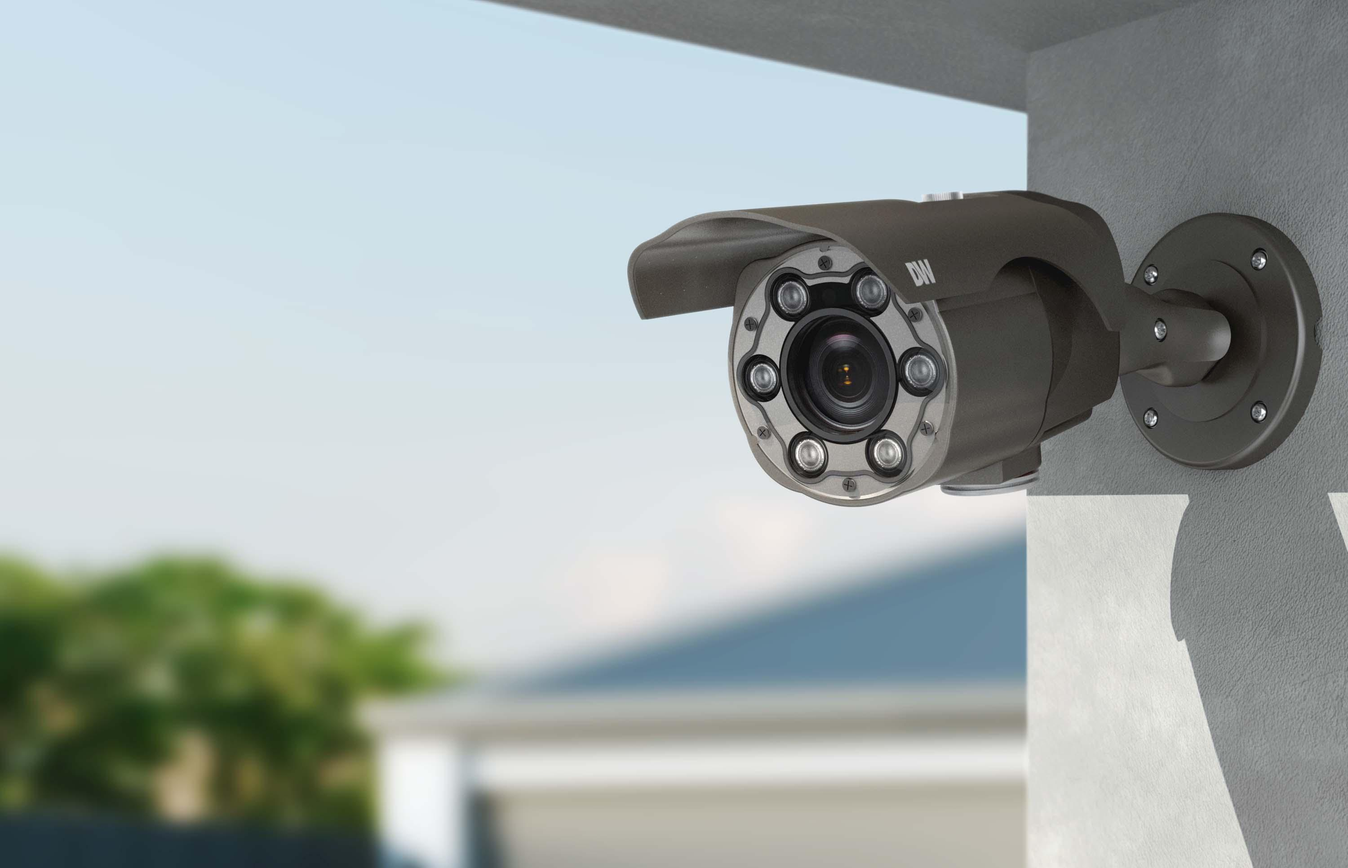CCTV: (596, 98, 1337, 540)
